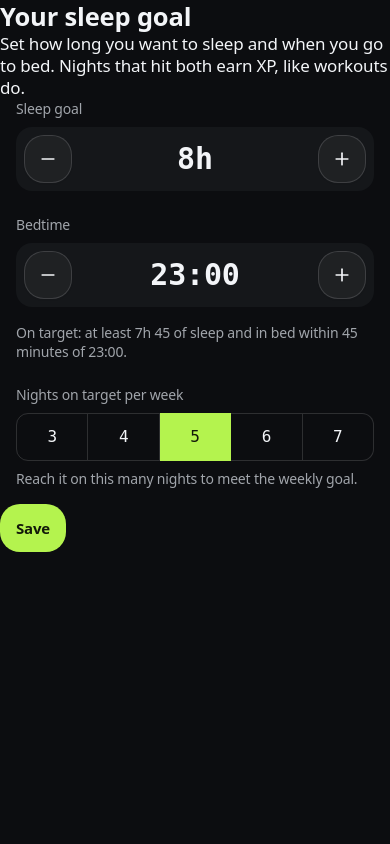
Scenario: SleepSetup › with the pillar on › goes back to a quiet form when the change is undone
This screenshot has width=390, height=844.
What coordinates should you click on to do the following:
click the button named "Bedtime 15 minutes later"
I would click on:
 (342, 275)
Its box is [318,251,366,299].
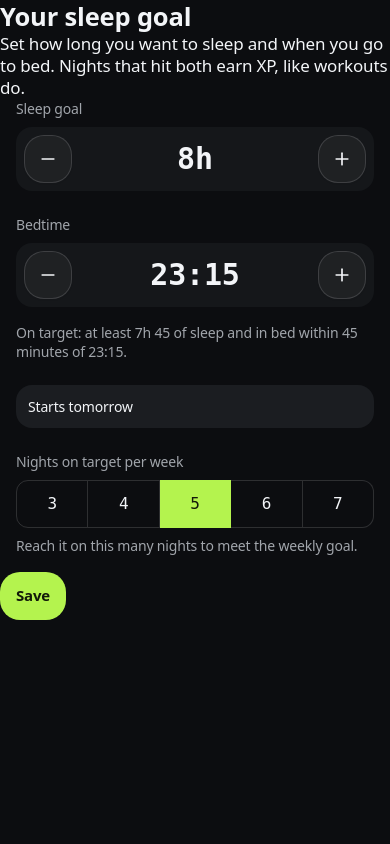
Result: the text "Starts tomorrow" is shown at [16,385,374,428]
What coordinates should you click on to do the following:
click the button named "Bedtime 15 minutes earlier"
I would click on:
 (48, 275)
Its box is [24,251,72,299].
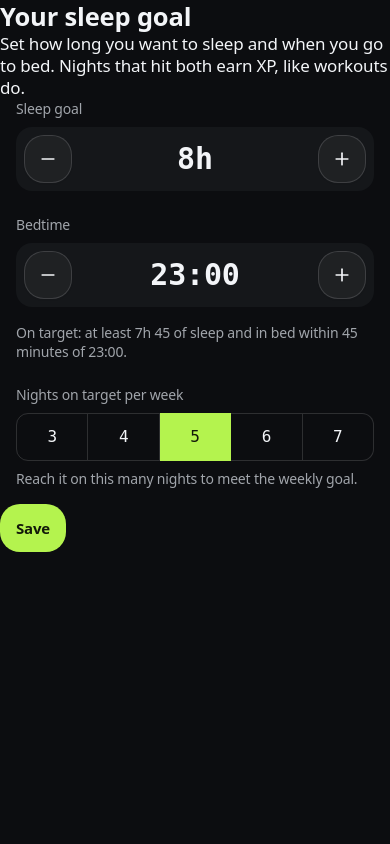
Result: the text "Starts tomorrow" is gone
